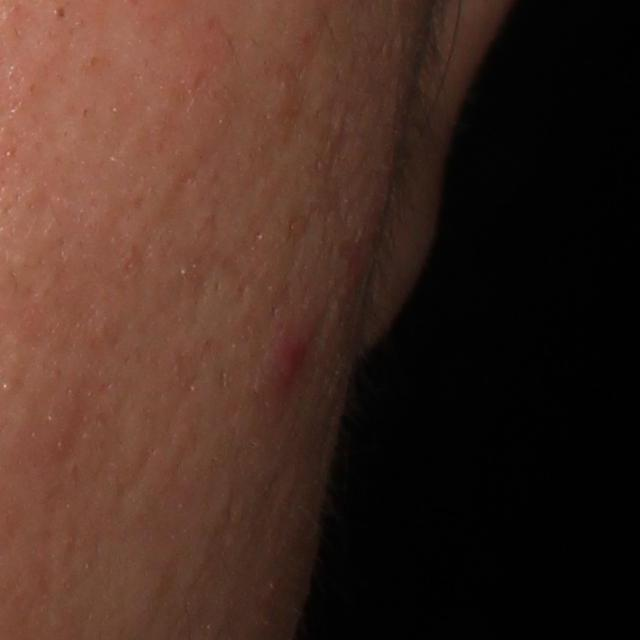papule: (270, 331, 308, 381)
